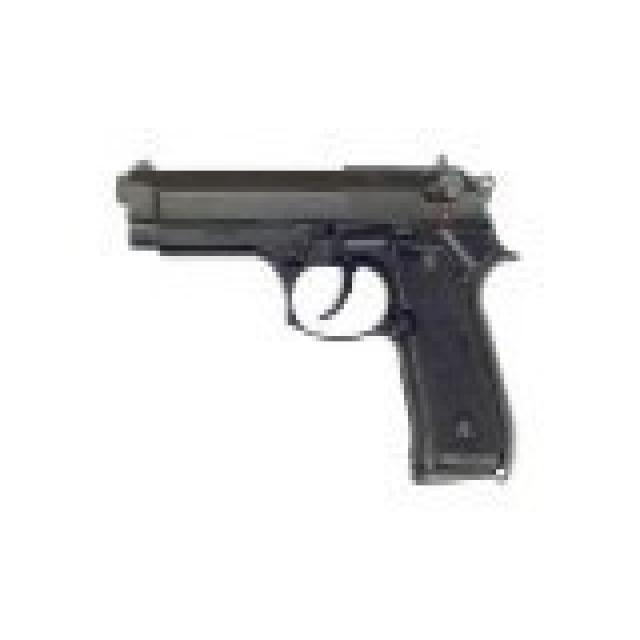Gun: (112, 136, 542, 512)
